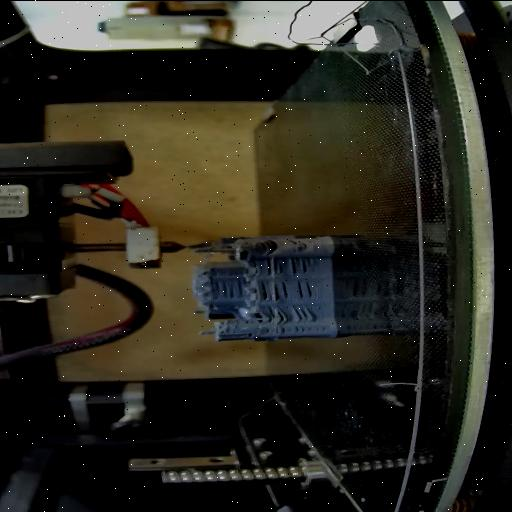cracks: (261, 254, 315, 276), (209, 278, 247, 298), (256, 280, 286, 302), (266, 324, 334, 332), (292, 278, 316, 299), (264, 305, 288, 323), (292, 305, 314, 323), (256, 236, 279, 250), (286, 236, 304, 246), (240, 332, 254, 338)
